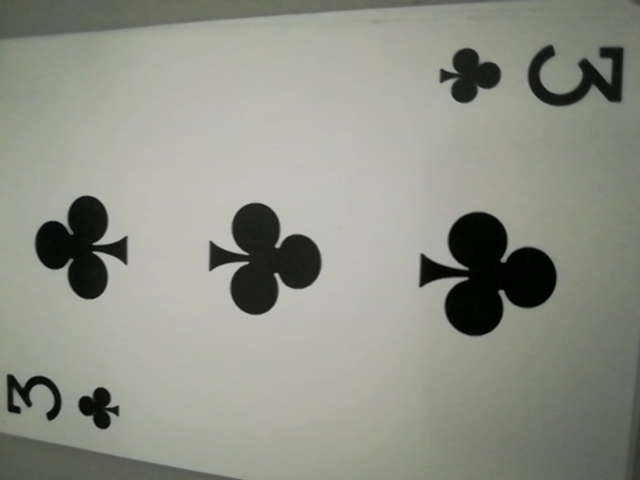mh 3: (433, 28, 624, 122), (3, 367, 123, 440)
